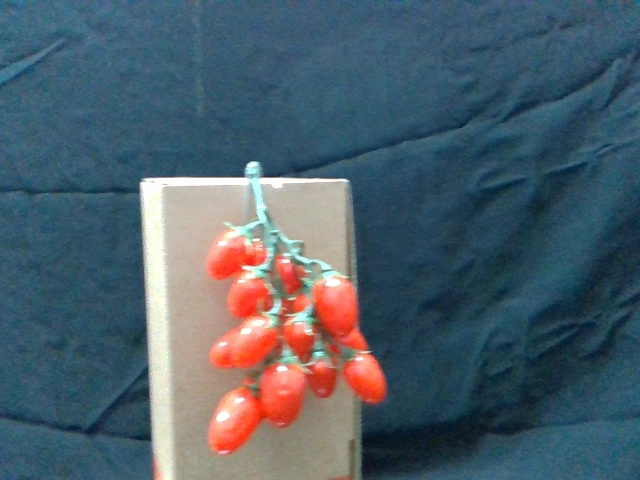tomato: (208, 381, 261, 453), (262, 356, 304, 429), (315, 271, 357, 335), (340, 348, 387, 404), (232, 313, 283, 364), (229, 267, 274, 318), (208, 232, 250, 277), (306, 350, 338, 397), (283, 311, 316, 355)
